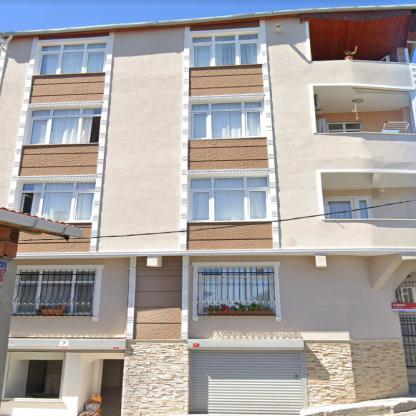window: (15, 271, 94, 311), (191, 178, 266, 220), (20, 182, 96, 220), (30, 108, 100, 144), (193, 101, 261, 138), (203, 268, 270, 302), (192, 34, 258, 67), (39, 43, 106, 75), (328, 201, 368, 218), (327, 124, 360, 132)
